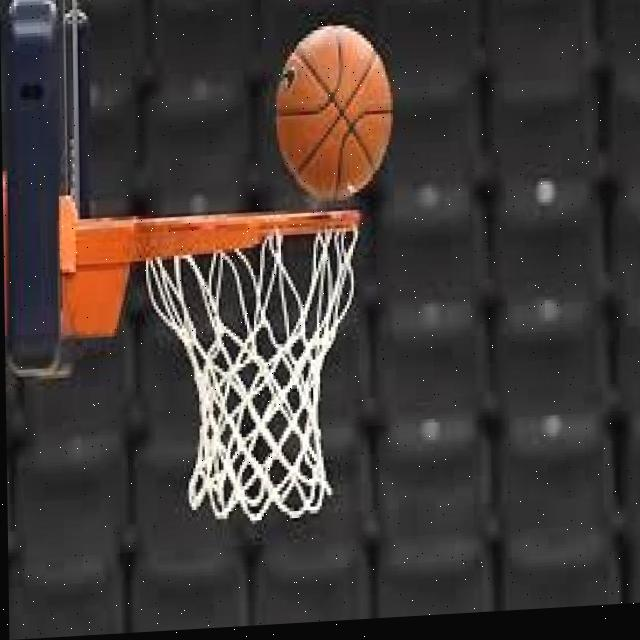Basketball: (275, 22, 397, 201)
